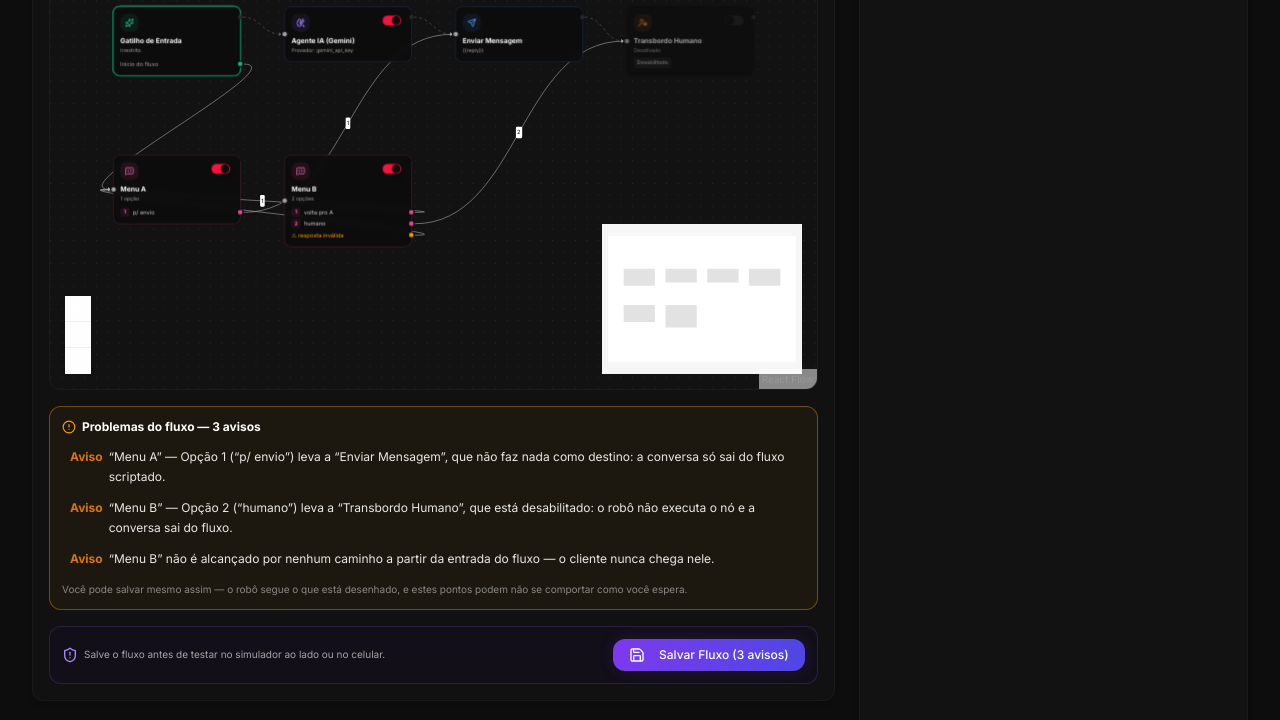
Test: exclusão de nó de menu — botão do inspector › 'Excluir nó' pede confirmação (com a contagem de conexões); 'Cancelar' mantém o nó
The width and height of the screenshot is (1280, 720).
(page scrolled)
Expected: the heading "Gatilho de Entrada" is shown, [120, 36, 182, 45]
What coordinates should you click on to do the following:
click the element showing "Menu A 1 opção 1 p/ envio"
I would click on:
 (177, 189)
Its box is [113, 154, 241, 224].
(page scrolled)
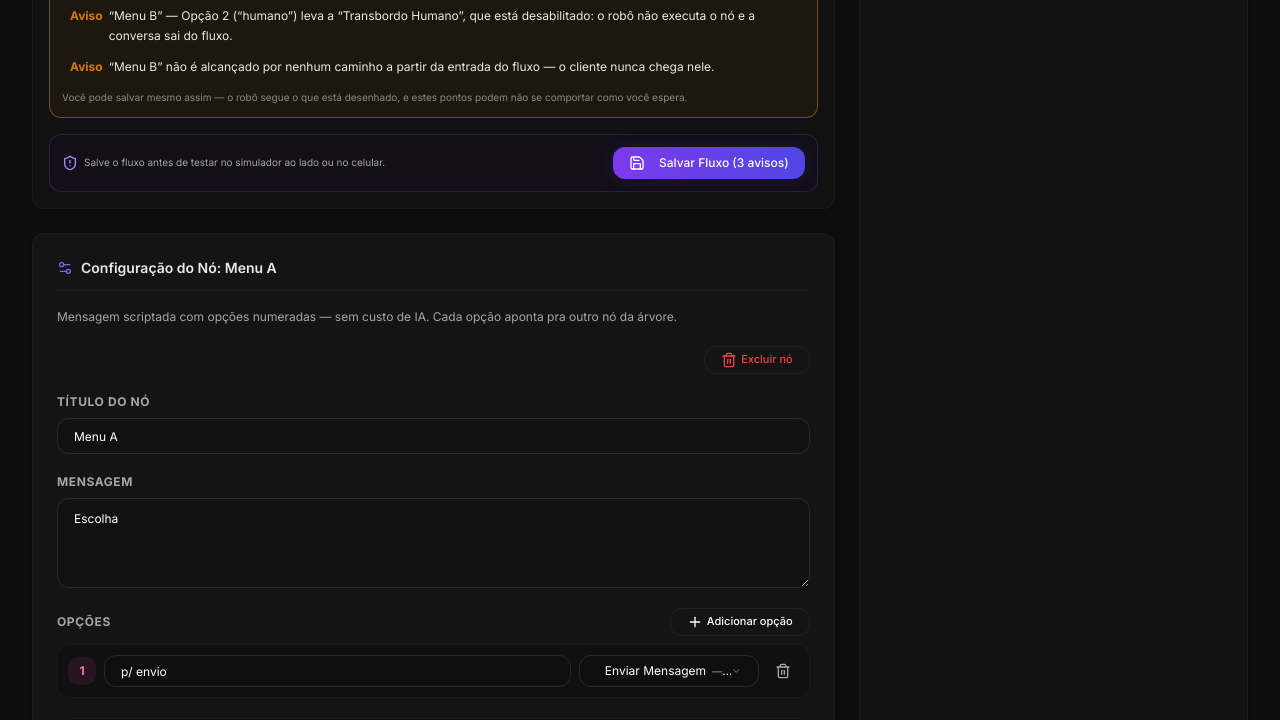
What coordinates should you click on to do the following:
click the button "Excluir nó"
I would click on:
 (757, 360)
Its box is [704, 346, 810, 374].
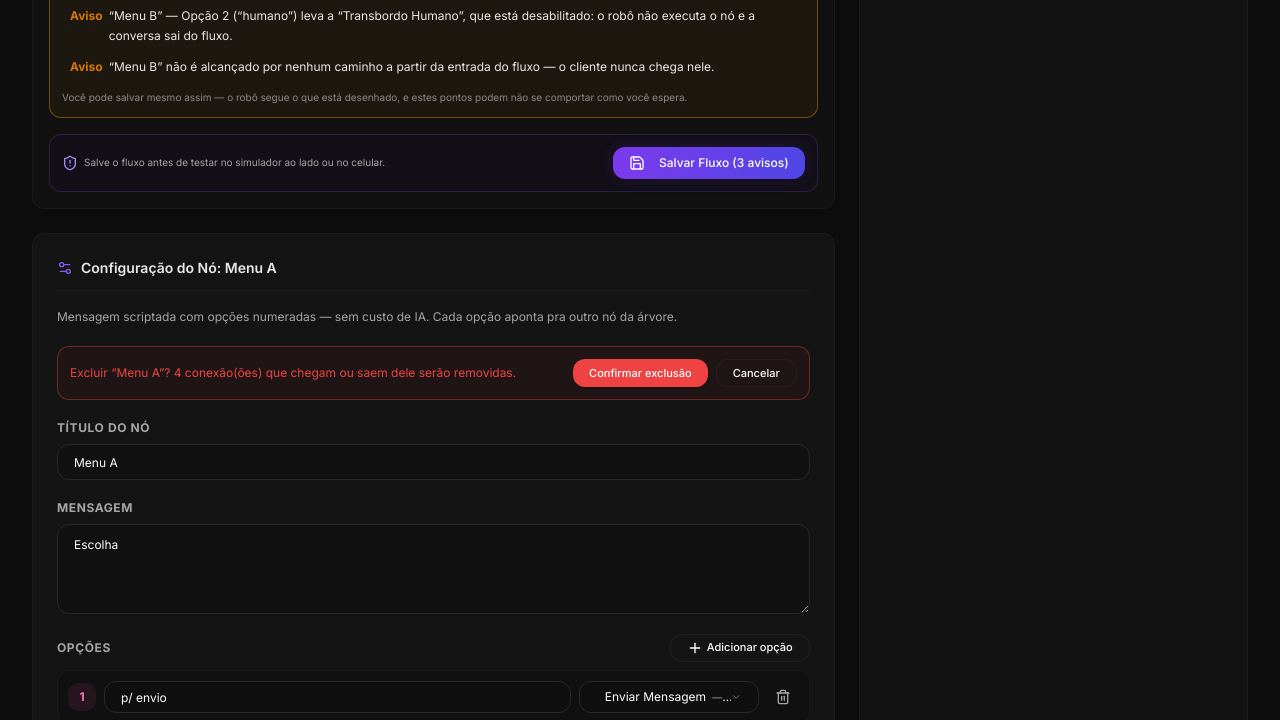
Expected: the message shows "4 conexão(ões)", [57, 346, 810, 400]
What coordinates should you click on to do the following:
click the button "Cancelar"
I would click on:
 (756, 373)
Its box is [716, 359, 797, 387].
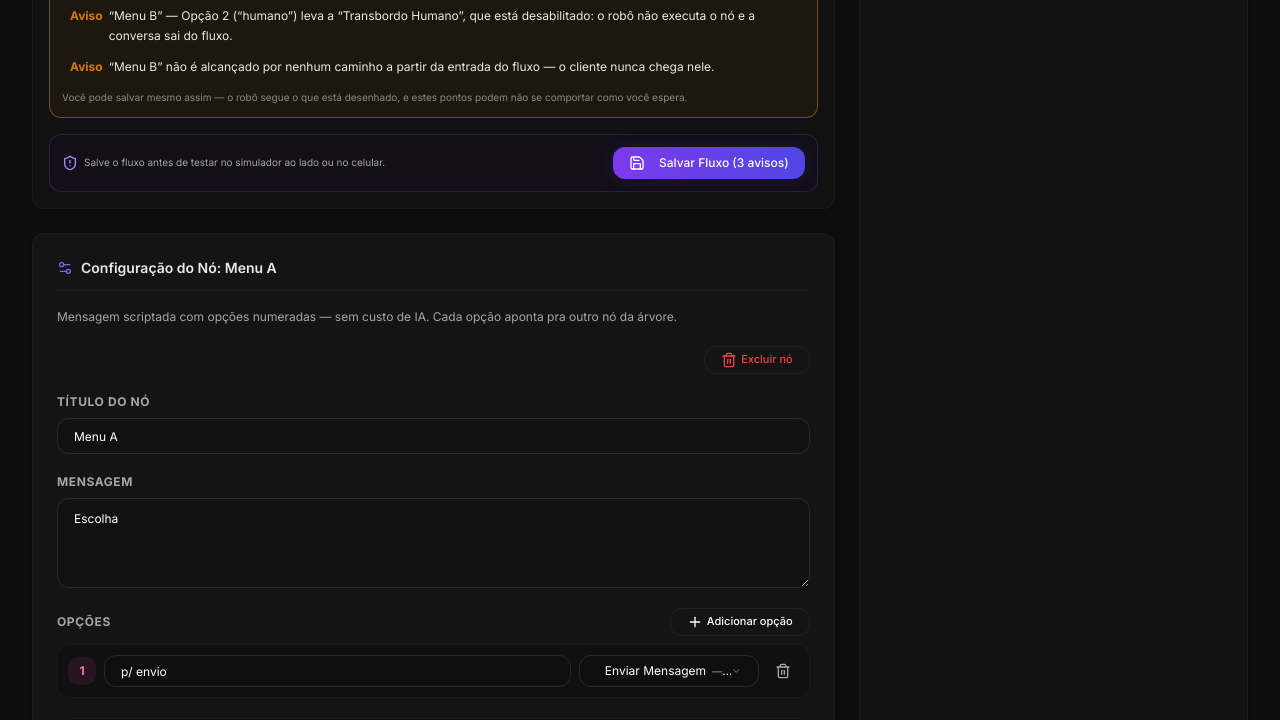
Expected: the button "Confirmar exclusão" is gone
